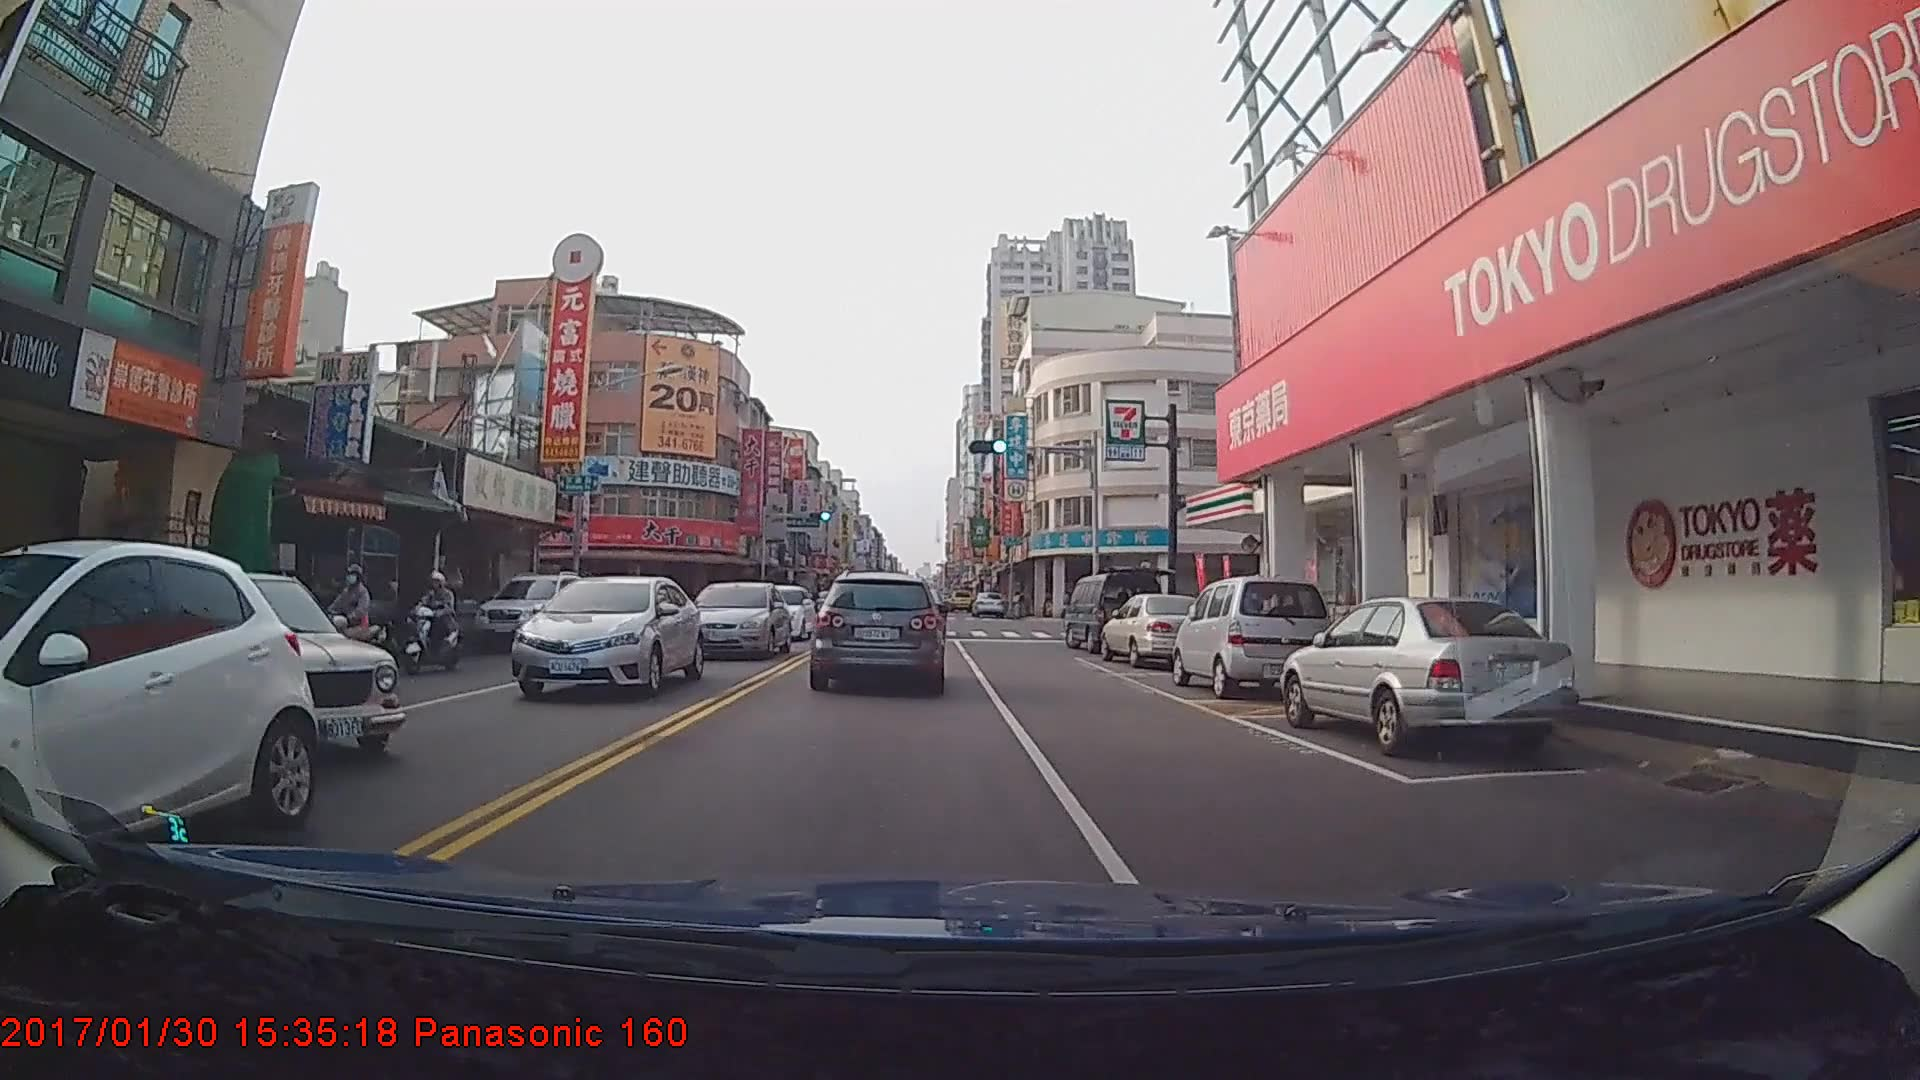rider: (402, 571, 467, 669)
vehicle: (0, 537, 314, 877), (67, 570, 401, 761), (1279, 595, 1577, 758), (500, 577, 692, 708), (1173, 579, 1337, 705), (814, 571, 943, 691), (471, 572, 589, 656), (685, 578, 788, 662), (1103, 593, 1213, 667), (1063, 574, 1163, 654), (745, 583, 813, 643), (969, 590, 1006, 616)
